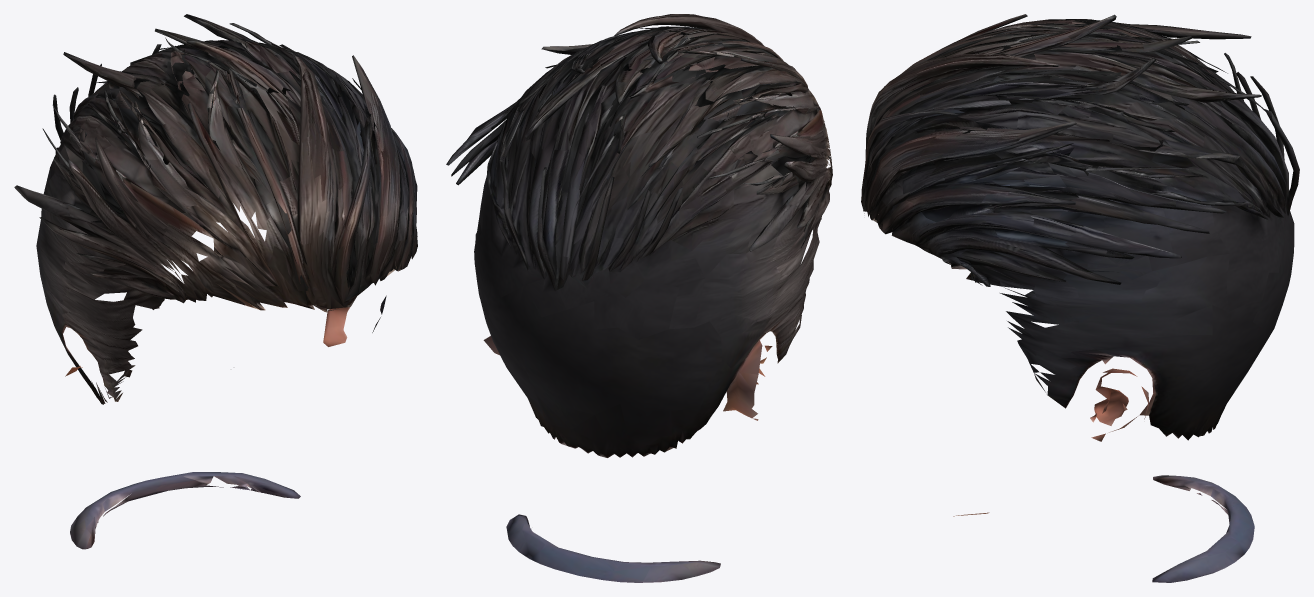
Rendered from pelo_undercut.glb.
The picture shows the model from 3 angles, left to right: view 1: azimuth 30°, elevation 25°; view 2: azimuth 150°, elevation 25°; view 3: azimuth 270°, elevation 25°; orthographic projection. The views are drawn at different scales.
Parts seen in each view (by area): view 1: pelo_undercut; view 2: pelo_undercut; view 3: pelo_undercut.
Boxes of the visible parts, <box> form: pelo_undercut: <box>14,14,417,549</box>; pelo_undercut: <box>446,14,832,582</box>; pelo_undercut: <box>861,14,1299,582</box>.
Bounding box in the file's own units: 0.2074 × 0.293 × 0.2312.
Materials: 1 (1 with a texture image).
